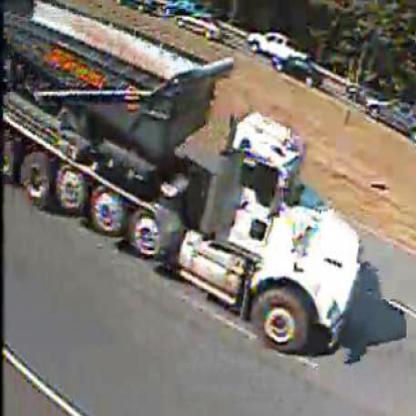container: (11, 18, 362, 351)
